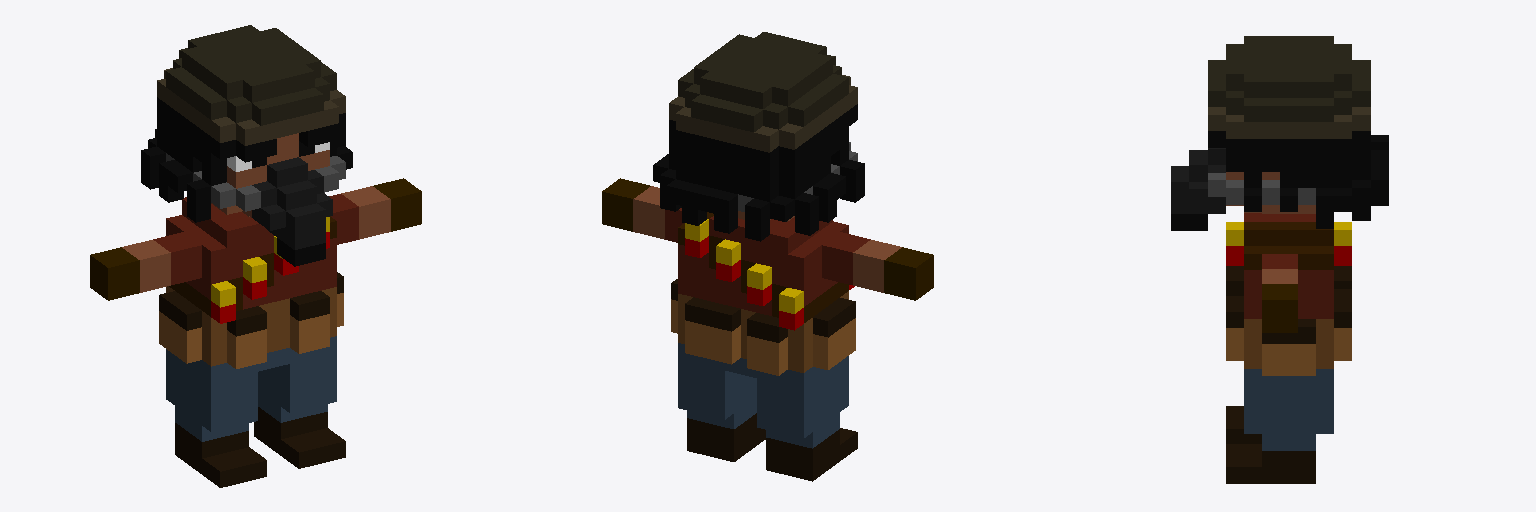
3 renders of one model, left to right at view 1: azimuth 30°, elevation 25°; view 2: azimuth 150°, elevation 25°; view 3: azimuth 270°, elevation 25°, orthographic.
Parts seen in each view (by area): view 1: object 1; view 2: object 1; view 3: object 1.
Part boxes in pixels (x1,y1,x2,y2): object 1: (90,25,421,487); object 1: (602,32,933,481); object 1: (1171,36,1388,483).
Size of the model in its own units: 2 by 2.4 by 1.2.
Materials: 1 (1 with a texture image).